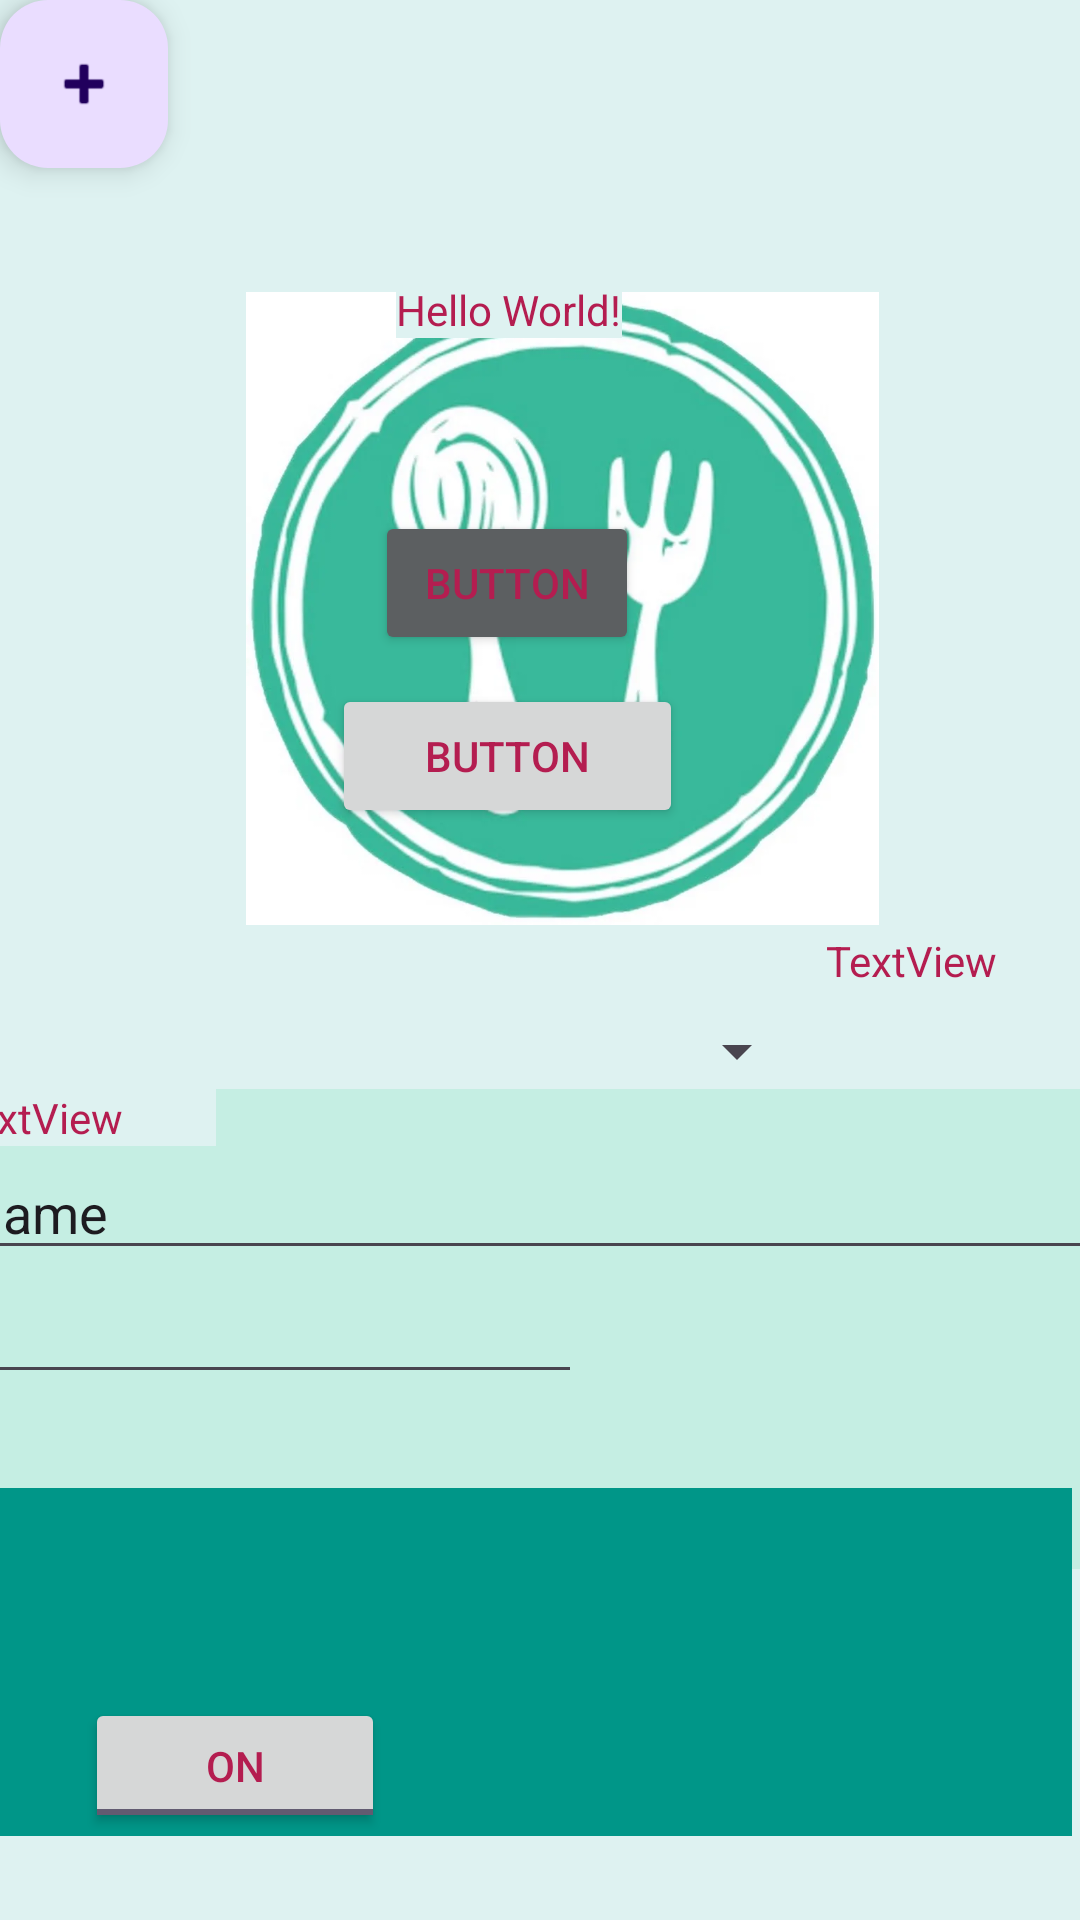

Where to tap for icons on this 1080×1920 app screen, as (x,y):
add: (84,84)
